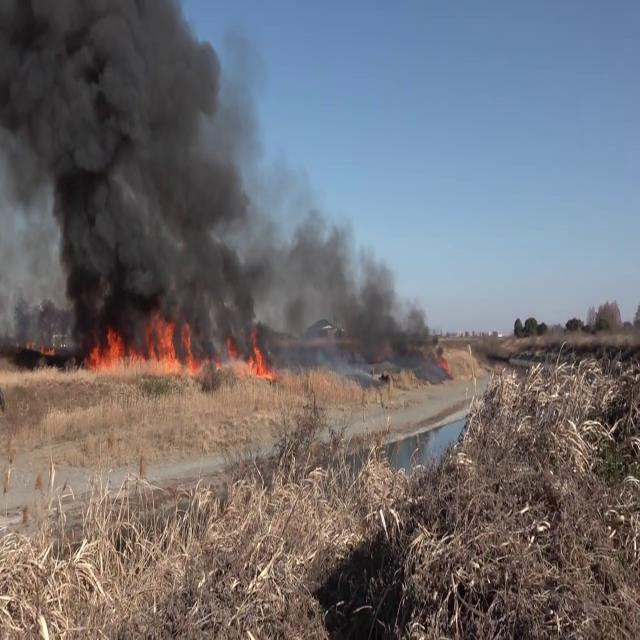Fire: (78, 304, 203, 378), (240, 332, 276, 380)
Smoke: (0, 0, 260, 344), (270, 196, 450, 368)
